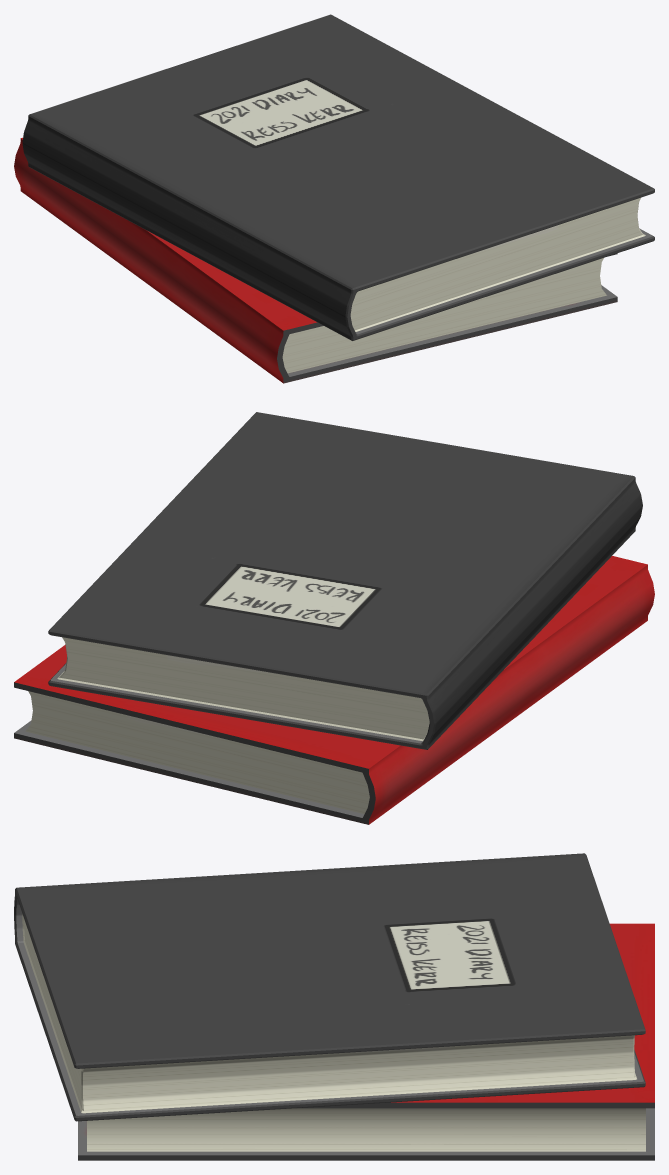
The model's file is maya2sketchfab.fbx.
3 renders of one model, top to bottom at view 1: azimuth 30°, elevation 25°; view 2: azimuth 150°, elevation 25°; view 3: azimuth 270°, elevation 25°, orthographic. The views are drawn at different scales.
Parts seen in each view (by area): view 1: Red_Book:pCube1, Red_Book1:pCube1; view 2: Red_Book:pCube1, Red_Book1:pCube1; view 3: Red_Book:pCube1, Red_Book1:pCube1.
Boxes of the visible parts, <box> form: Red_Book:pCube1: <box>22,14,654,340</box>; Red_Book1:pCube1: <box>14,137,617,383</box>; Red_Book:pCube1: <box>48,412,642,749</box>; Red_Book1:pCube1: <box>14,556,654,824</box>; Red_Book:pCube1: <box>14,853,645,1121</box>; Red_Book1:pCube1: <box>78,923,654,1160</box>.
Size of the model in its own units: 22.36 by 5.63 by 28.19.
2 materials, 2 textured.
